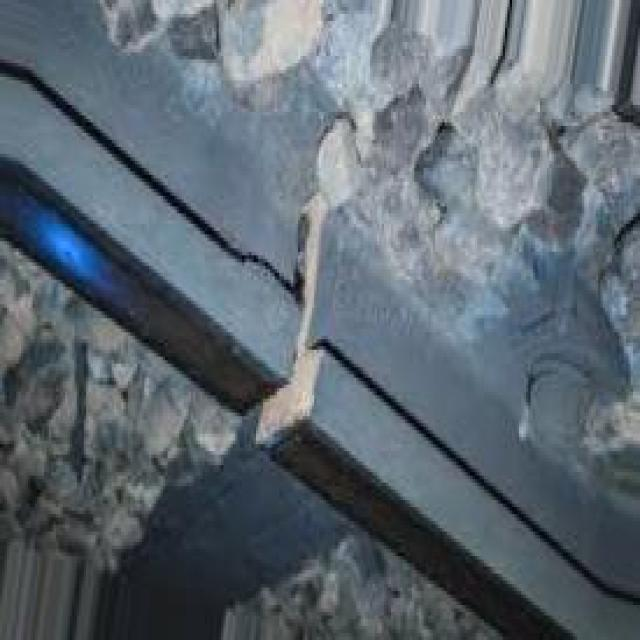crack: (214, 147, 360, 484)
